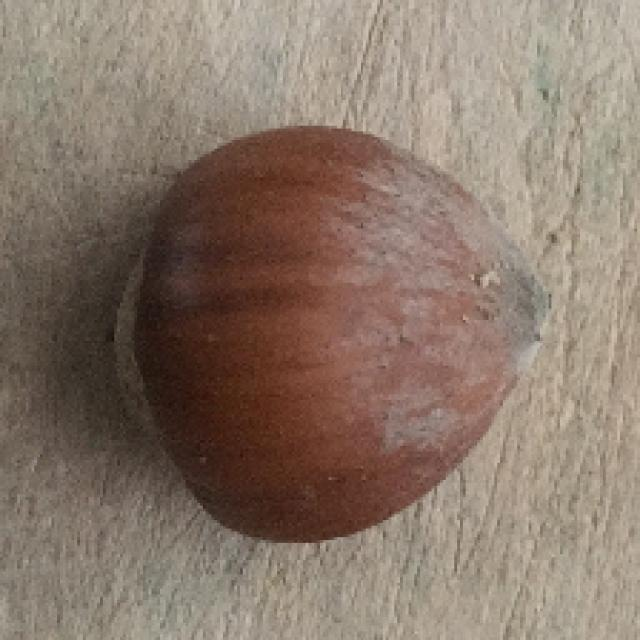qualityHazelnut: (103, 119, 565, 550)
